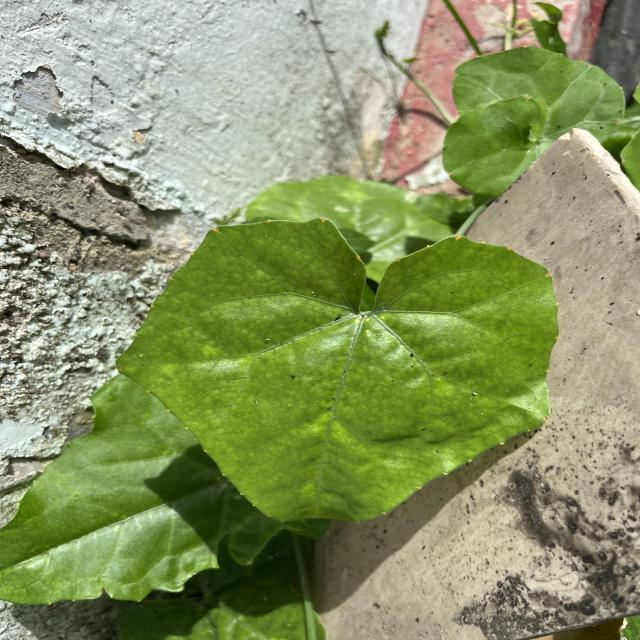Coccinia grandis: (111, 212, 565, 530)
